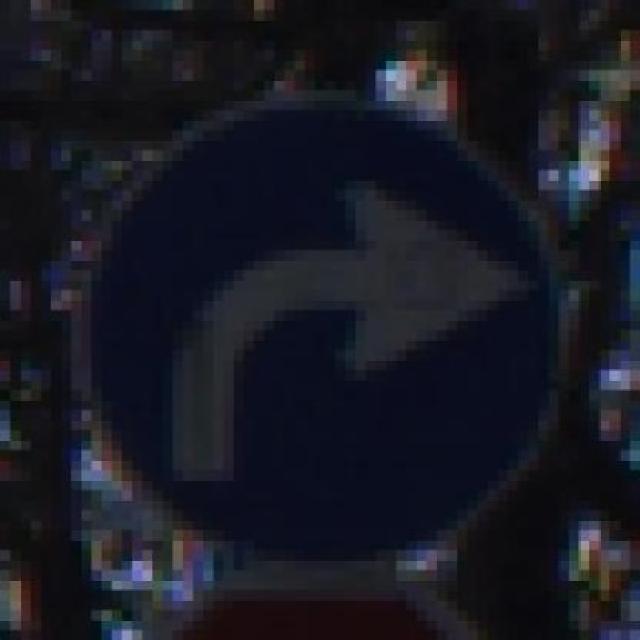Turn right ahead: (50, 70, 579, 570)
